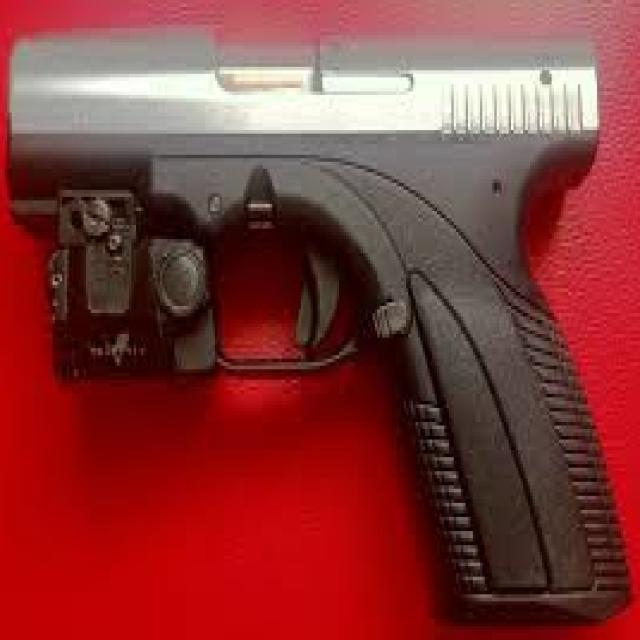Gun: (17, 17, 631, 640)
